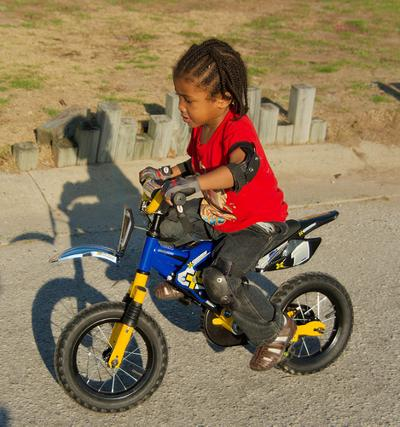person: (140, 38, 298, 374)
